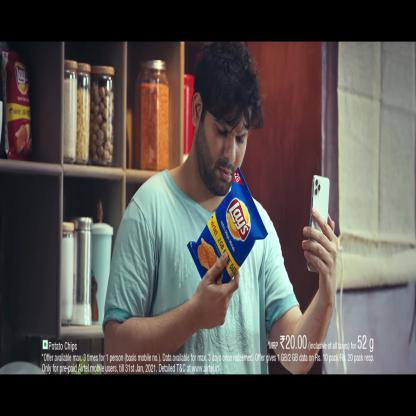indian_magic_masala: (189, 166, 267, 282)
